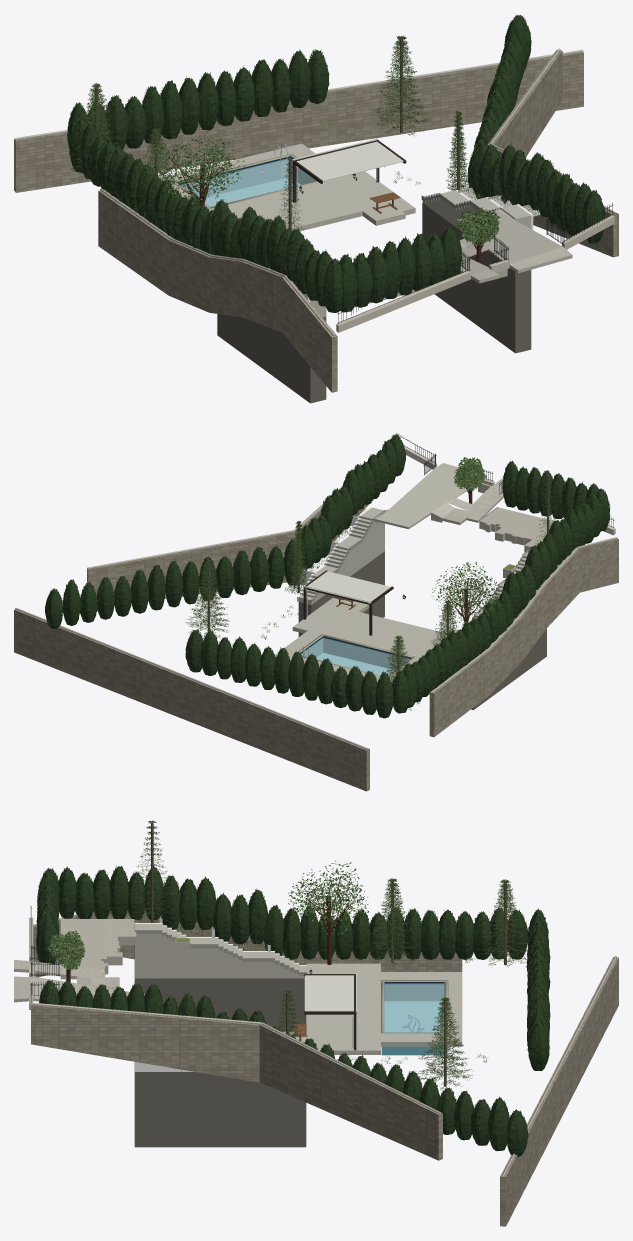
The model's file is garden-m.glb.
3 views of the same model, one above another, from view 1: azimuth 30°, elevation 25°; view 2: azimuth 150°, elevation 25°; view 3: azimuth 270°, elevation 25° (orthographic). The views are drawn at different scales.
Parts seen in each view (by area): view 1: Rear CAD retaining wall, R33 | Continuous pool terrace, Garden | Buried soil below stair.001, Garden | Fine conifer branch needle masses.001, West CAD retaining wall.004, Garden | Buried soil below stair, West CAD retaining wall, East diagonal CAD retaining wall, Individual folded leaves.008, R33 | Monolithic pool basin, R33 | Pool water physical depth, West CAD retaining wall.003 (+55 smaller); view 2: Rear CAD retaining wall, R33 | Continuous pool terrace, East diagonal CAD retaining wall, Garden | Fine conifer branch needle masses.001, West CAD retaining wall.004, R33 | Connected garage driveway, R33 | Continuous side garden stair.001, R33 | Monolithic pool basin, Front garden | R44 facade walk terrace, Individual folded leaves.008, R33 | Pool water physical depth, West CAD retaining wall (+45 smaller); view 3: Garden | Buried soil below stair.001, East elevated neighbor retaining wall, East diagonal CAD retaining wall, R33 | Continuous pool terrace, Rear CAD retaining wall, R33 | Continuous side garden stair, Garden | Buried soil below stair, Garden | Fine conifer branch needle masses.001, R33 | Monolithic pool basin, Front garden | R44 facade walk terrace, R33 | Pool water physical depth, Individual folded leaves.008 (+41 smaller).
Part boxes in pixels (x1,y1,x2,y2): Rear CAD retaining wall: (14, 52, 583, 192); R33 | Continuous pool terrace: (160, 143, 404, 230); Garden | Buried soil below stair.001: (422, 202, 531, 353); Garden | Fine conifer branch needle masses.001: (71, 36, 469, 228); West CAD retaining wall.004: (98, 189, 172, 295); Garden | Buried soil below stair: (217, 314, 326, 403); West CAD retaining wall: (282, 277, 337, 392); East diagonal CAD retaining wall: (488, 50, 562, 157); Individual folded leaves.008: (149, 131, 245, 203); R33 | Monolithic pool basin: (178, 156, 316, 206); R33 | Pool water physical depth: (181, 159, 315, 206); West CAD retaining wall.003: (168, 240, 210, 312); Rear CAD retaining wall: (14, 609, 369, 791); R33 | Continuous pool terrace: (275, 603, 446, 683); East diagonal CAD retaining wall: (87, 531, 295, 598); Garden | Fine conifer branch needle masses.001: (190, 473, 554, 709); West CAD retaining wall.004: (429, 650, 489, 737); R33 | Connected garage driveway: (377, 467, 466, 529); R33 | Continuous side garden stair.001: (299, 507, 384, 604); R33 | Monolithic pool basin: (300, 636, 410, 674); Front garden | R44 facade walk terrace: (479, 507, 553, 552); Individual folded leaves.008: (431, 562, 499, 625); R33 | Pool water physical depth: (301, 638, 409, 674); West CAD retaining wall: (578, 538, 618, 592); Garden | Buried soil below stair.001: (134, 1071, 306, 1147); East elevated neighbor retaining wall: (31, 1004, 264, 1082); East diagonal CAD retaining wall: (260, 1024, 442, 1160); R33 | Continuous pool terrace: (306, 963, 462, 1054); Rear CAD retaining wall: (500, 957, 618, 1226); R33 | Continuous side garden stair: (134, 924, 306, 978); Garden | Buried soil below stair: (134, 978, 306, 1031); Garden | Fine conifer branch needle masses.001: (134, 821, 526, 1090); R33 | Monolithic pool basin: (381, 982, 447, 1055); Front garden | R44 facade walk terrace: (60, 919, 136, 979); R33 | Pool water physical depth: (385, 984, 443, 1032); Individual folded leaves.008: (288, 860, 368, 935).
Bounding box in the file's own units: 36.78 × 16.32 × 40.26.
Materials: 43 (7 with a texture image).
